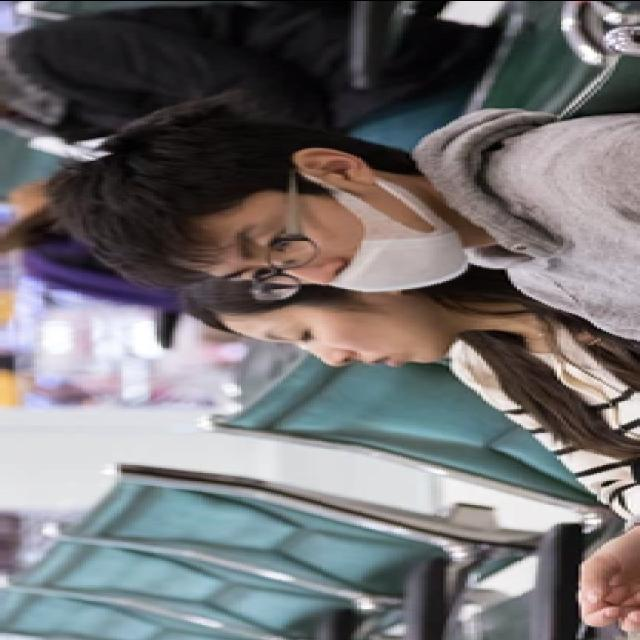mask: (213, 192, 462, 298)
no_mask: (249, 302, 443, 370)
